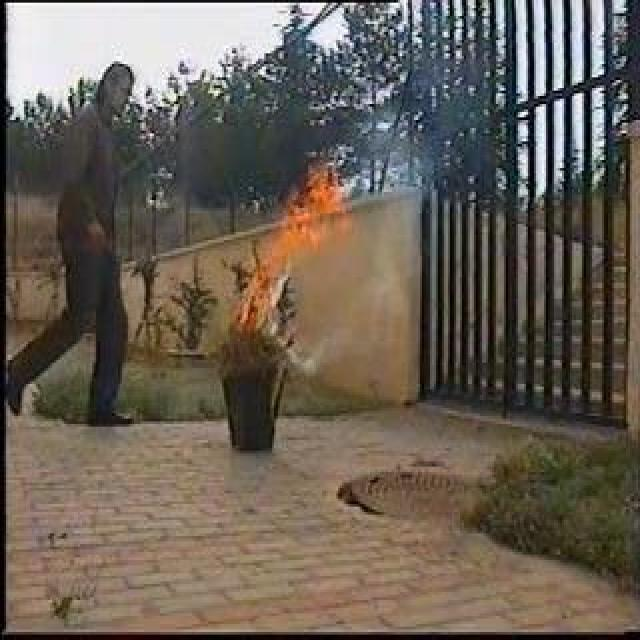fire: (229, 172, 342, 332)
